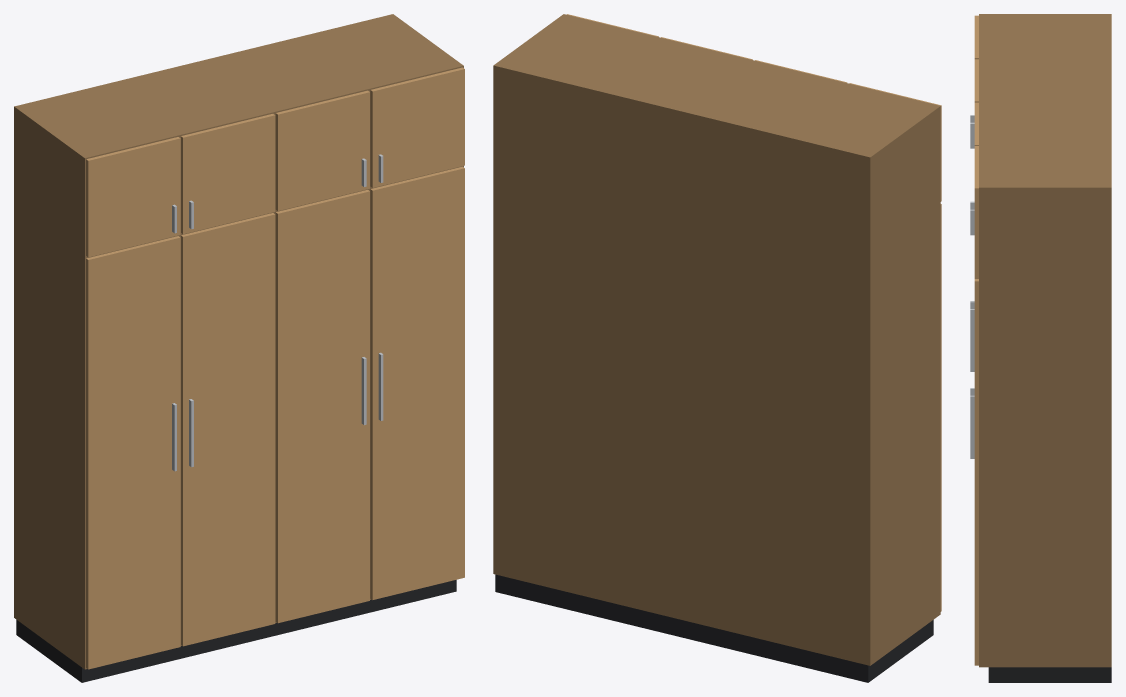
The model's file is gardirop-1800-mese.glb.
3 renders of one model, left to right at view 1: azimuth 30°, elevation 25°; view 2: azimuth 150°, elevation 25°; view 3: azimuth 270°, elevation 25°, orthographic. The views are drawn at different scales.
Visible parts, largest first — view 1: mobilya; view 2: mobilya; view 3: mobilya.
Part boxes in pixels (<box>): mobilya: <box>14,14,464,682</box>; mobilya: <box>493,14,941,682</box>; mobilya: <box>970,14,1111,682</box>.
Bounding box in the file's own units: 1.8 × 2.4 × 0.62.
